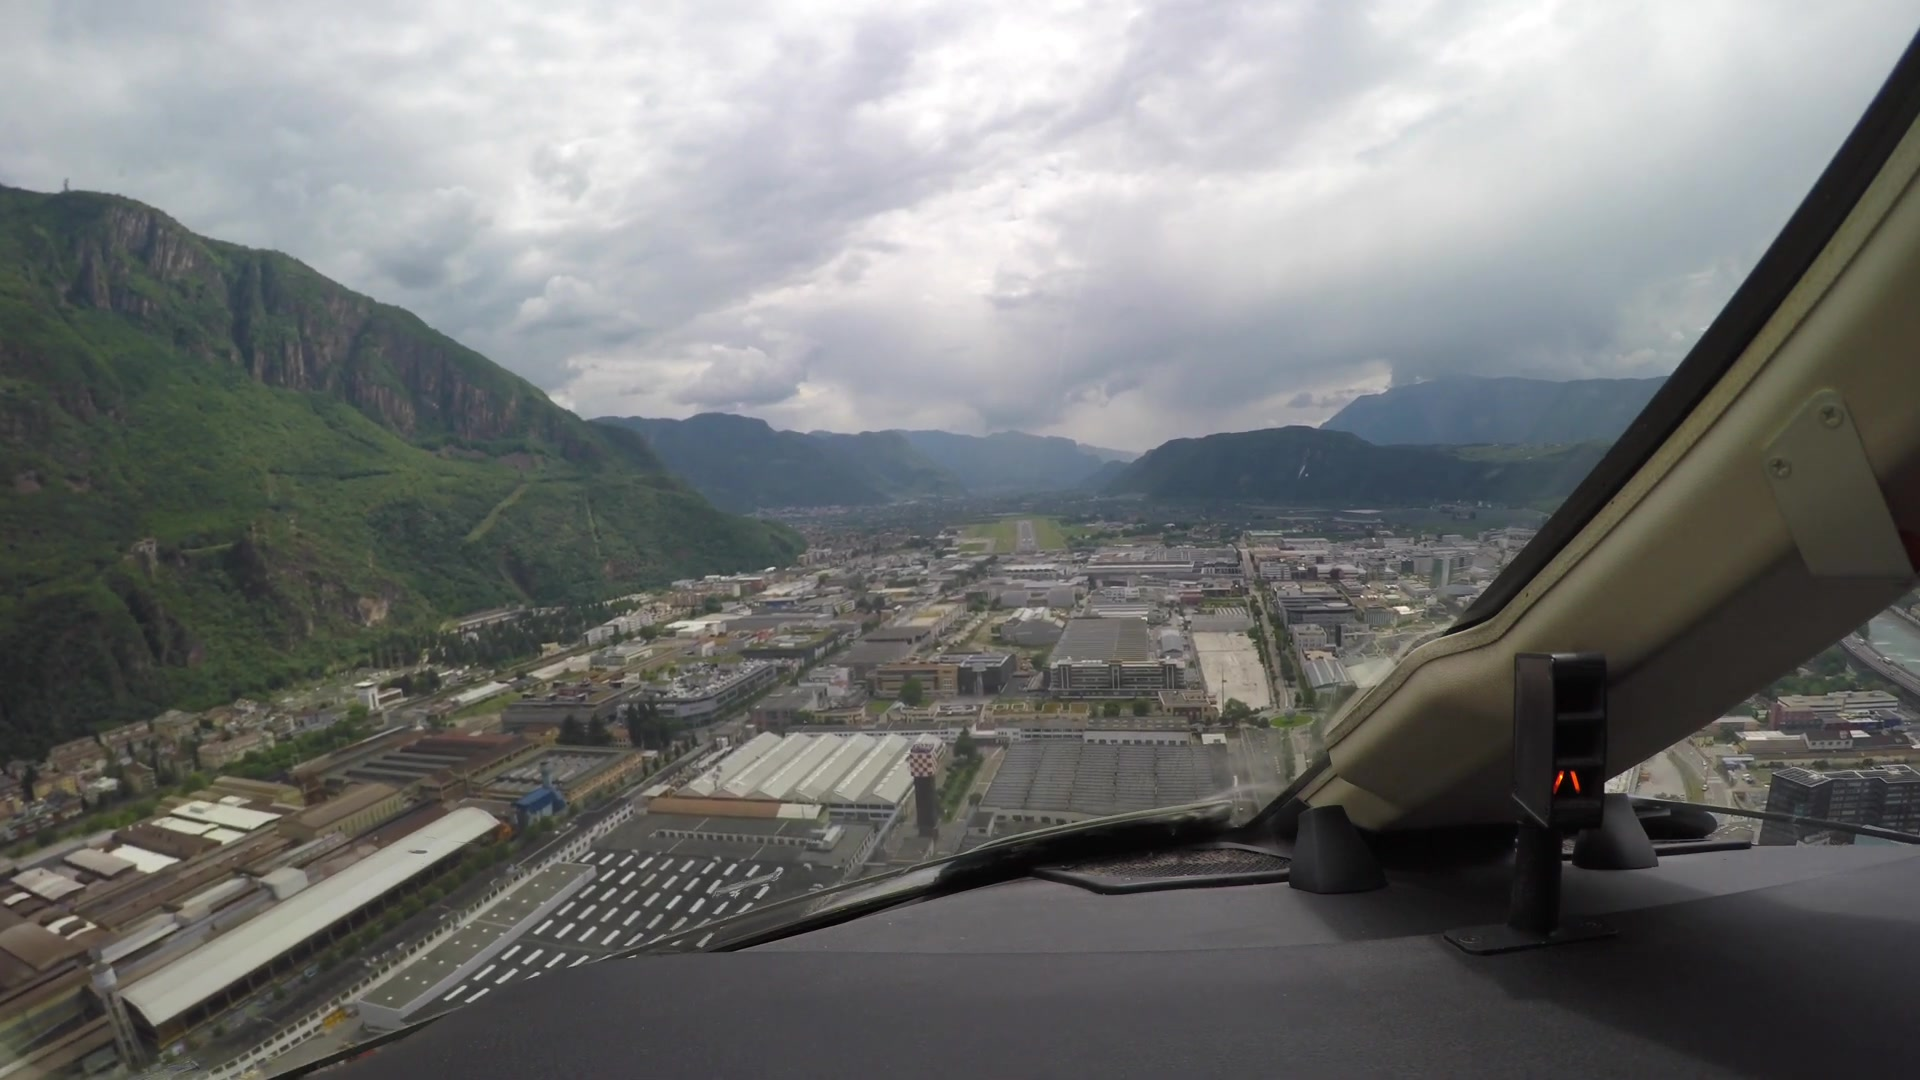runway: (1015, 520, 1036, 551)
